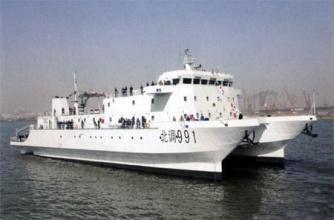warship: (7, 53, 316, 176)
